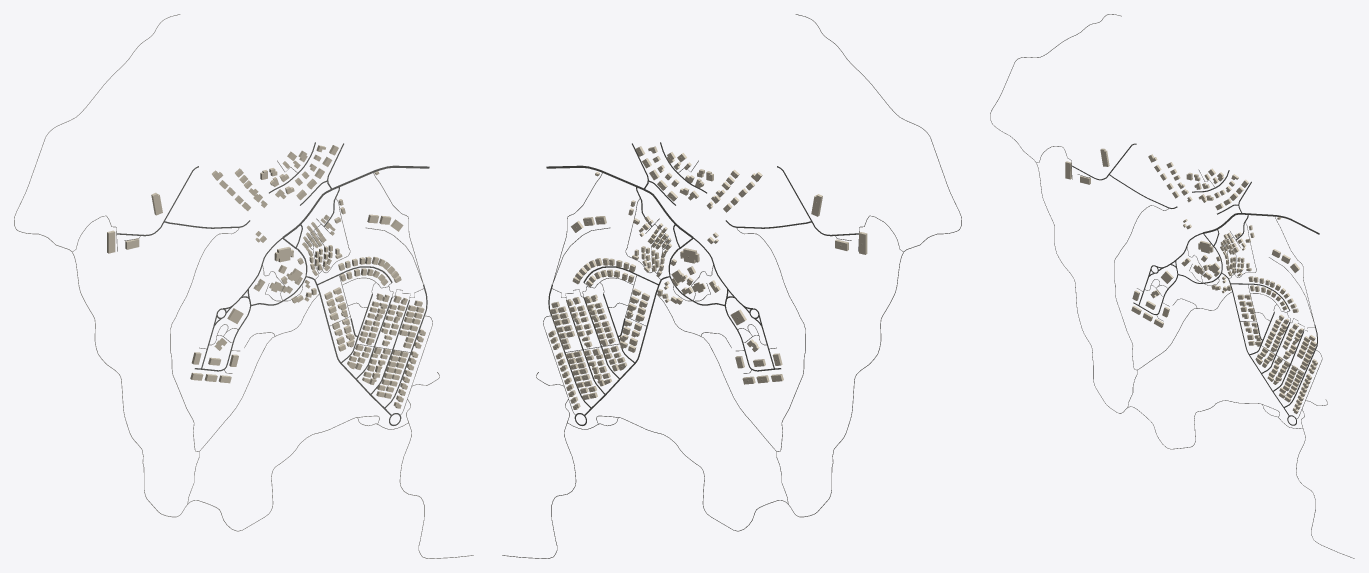
File: historic-palestine-11_24_3530_3187.glb
The picture shows the model from 3 angles, left to right: view 1: azimuth 30°, elevation 25°; view 2: azimuth 150°, elevation 25°; view 3: azimuth 330°, elevation 25°; orthographic projection. The views are drawn at different scales.
Parts seen in each view (by area): view 1: Road .014; view 2: Road .014; view 3: Road .014.
Part boxes in pixels (bbox=[...]): Road .014: bbox=[14, 14, 379, 531]; Road .014: bbox=[596, 14, 961, 531]; Road .014: bbox=[990, 14, 1279, 449].
Size of the model in its own units: 1142 by 1455 by 8.7.
